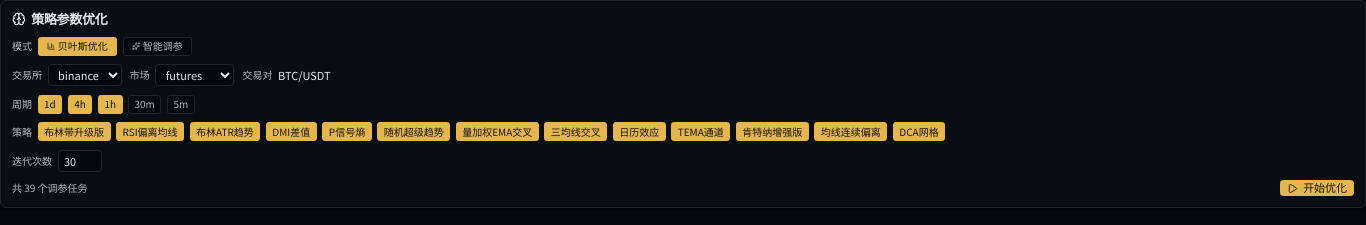
Test: TuningControlPanel 美股化 (US-002) › AC2-3: yahoo 模式出现 symbol input 且初值 AAPL;binance 模式是静态文本 BTC/USDT
The width and height of the screenshot is (1366, 225).
Check: the text "BTC/USDT" is shown, box top-left (278, 68), bottom-right (331, 83)
Select "yahoo" in the dropdown next to "交易所" at (84, 75), box top-left (48, 64), bottom-right (122, 86)
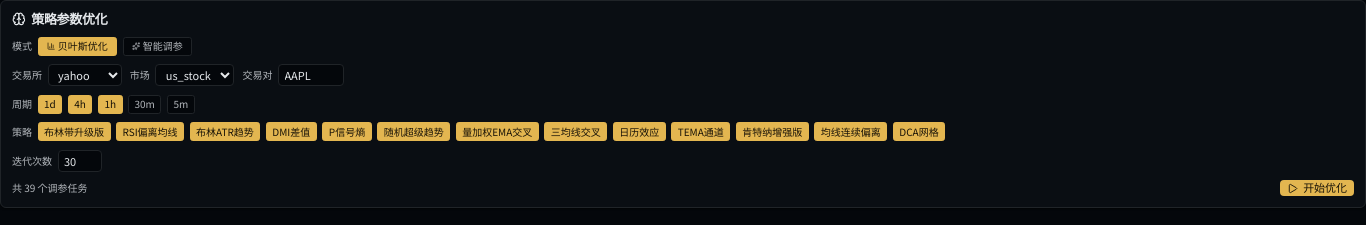
Check: the field named "美股代码" holds "AAPL", box top-left (278, 64), bottom-right (344, 86)
Check: the text "BTC/USDT" is gone
